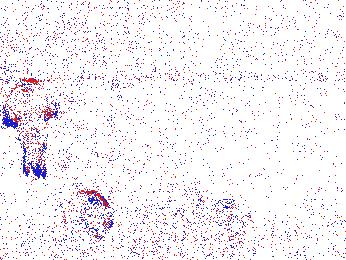flame jellyfish: (1, 82, 59, 177), (62, 189, 113, 243), (206, 198, 253, 248)
